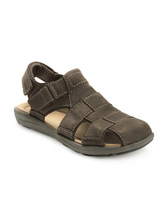shoes: (11, 58, 157, 161)
